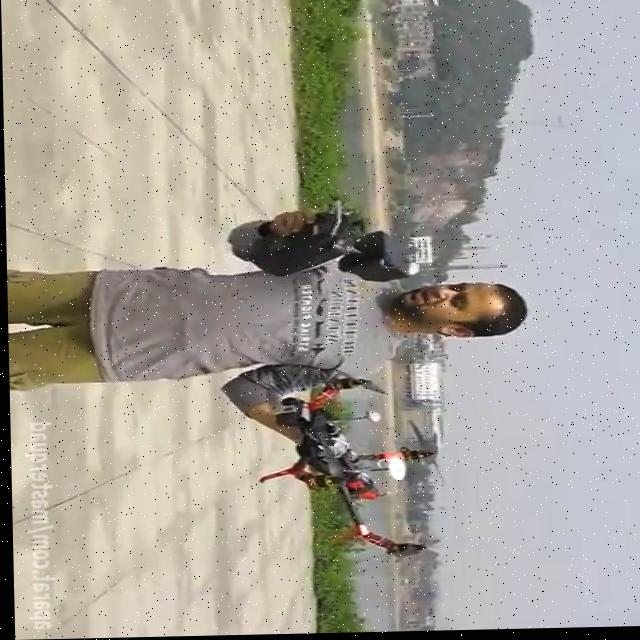drone: (250, 365, 447, 567)
